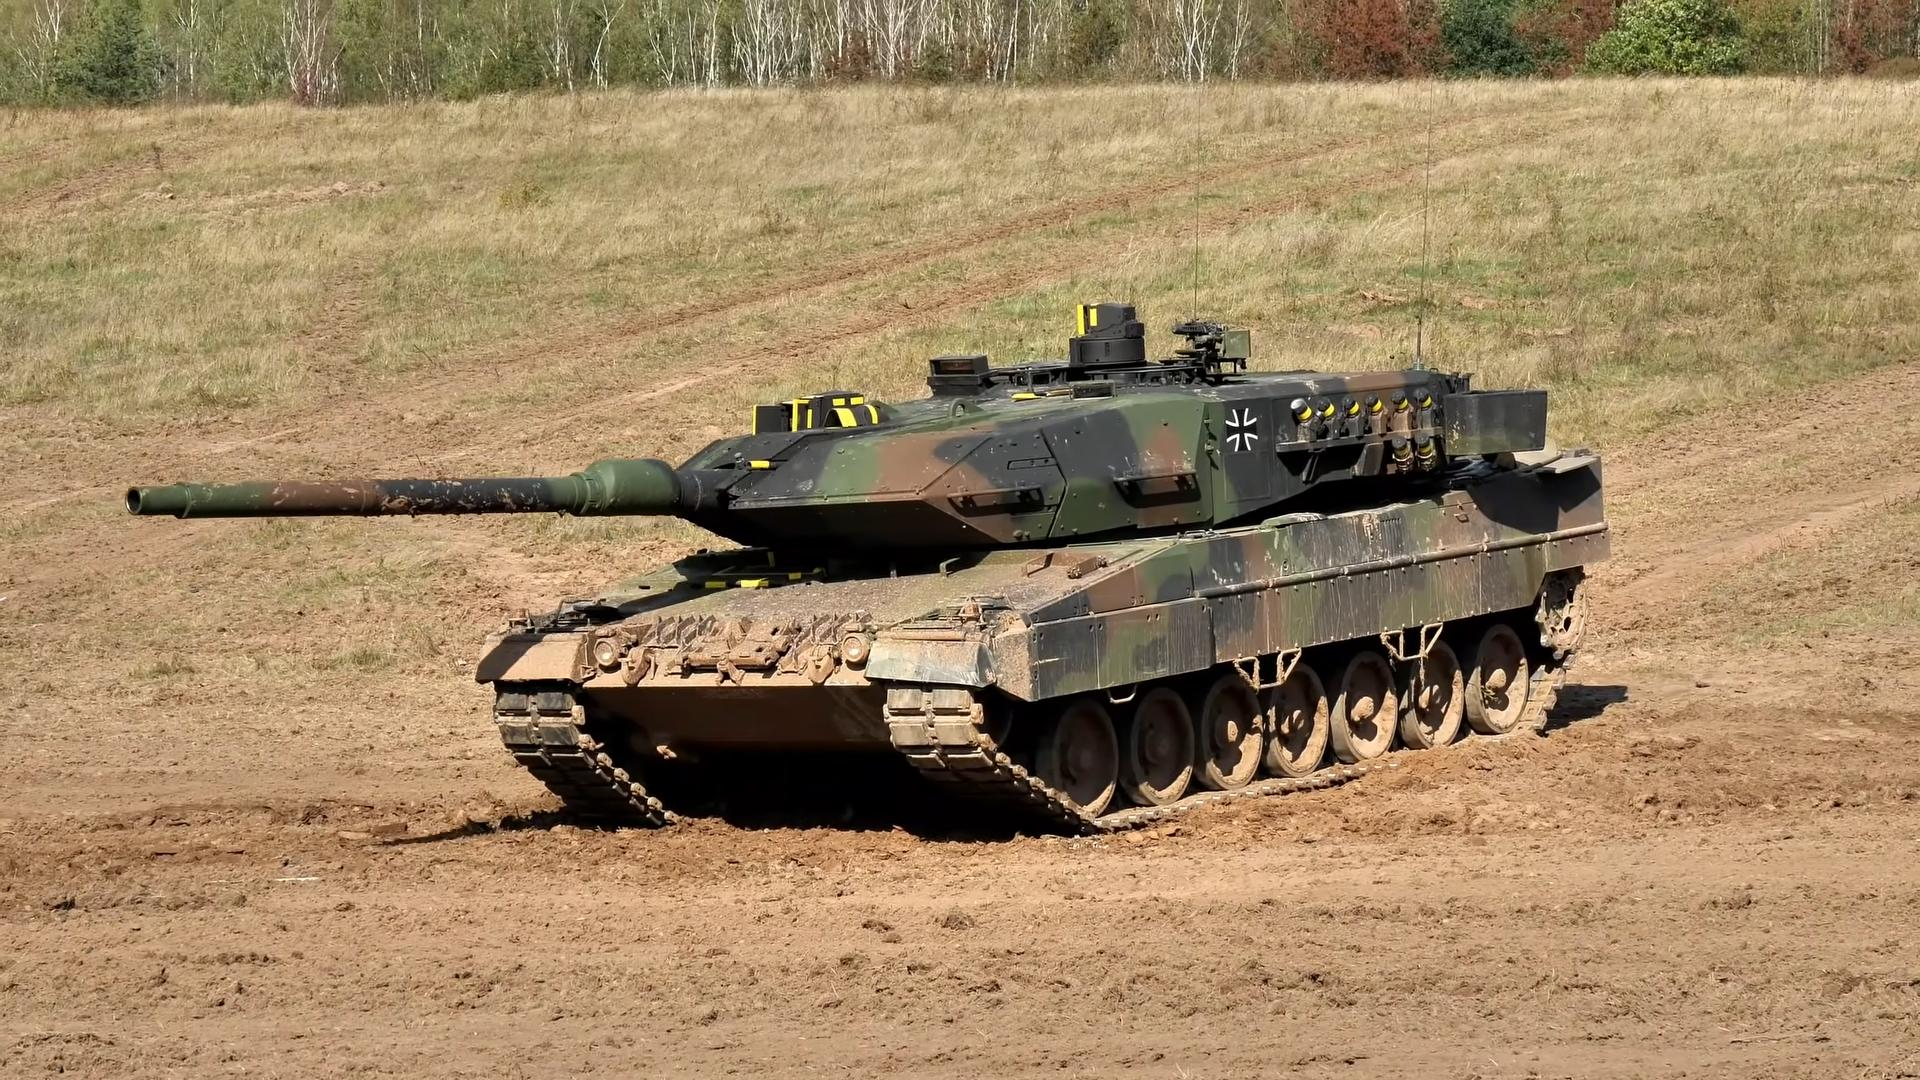tank: (125, 306, 1609, 832)
